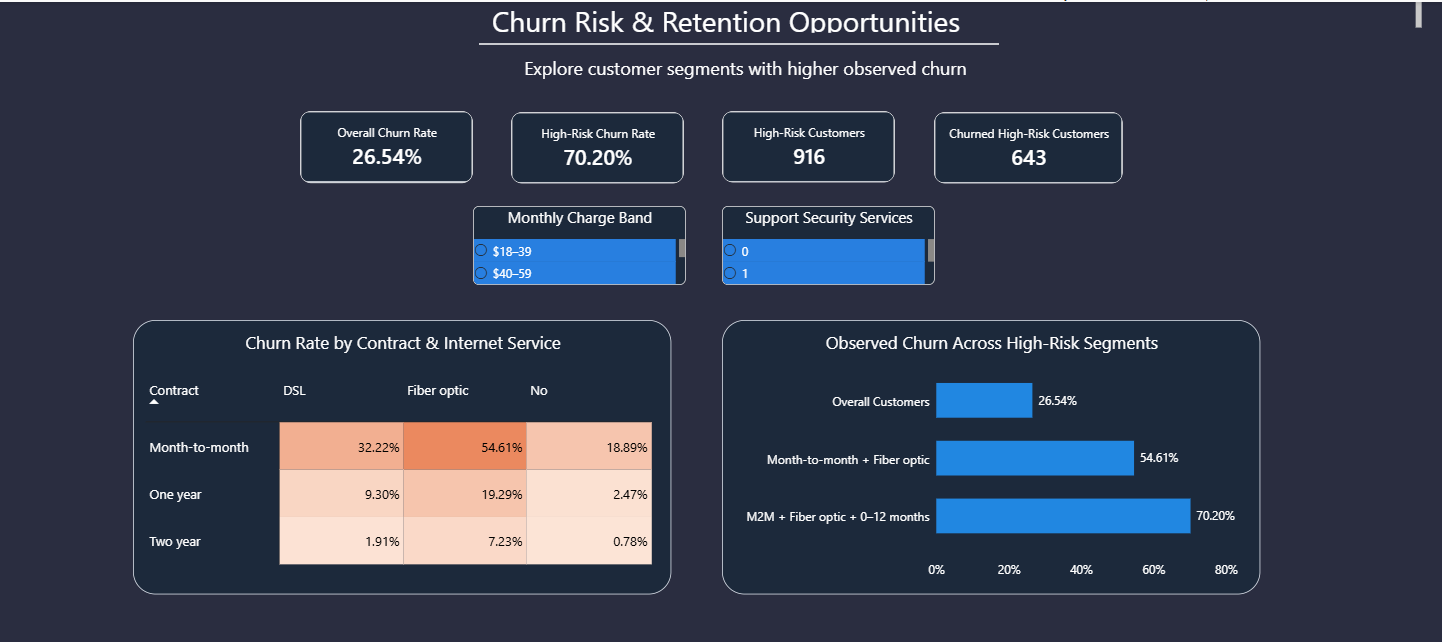

The dashboard page shown, as its layout file describes it:
{"tool":"powerbi","page":{"name":"Churn Risk & Retention Opportunities","canvas":[1920,1080],"ordinal":2},"visuals":[{"type":"cardVisual","fields":{"Data":["Measures_.Churn Rate"]},"box":[399,145,230.1,95.8],"z":0},{"type":"cardVisual","fields":{"Data":["Telco-Customer-Churn.High Risk Segment Churn Rate"]},"box":[679.7,146.3,230,95],"z":1000},{"type":"cardVisual","fields":{"Data":["Telco-Customer-Churn.High Risk Segment Customers"]},"box":[960.3,145,230,95],"z":2000},{"type":"cardVisual","fields":{"Data":["Telco-Customer-Churn.High Risk Churned Customers"]},"box":[1242.5,146.2,251.2,95],"z":3000},{"type":"pivotTable","title":"Churn Rate by Contract & Internet Service","fields":{"Columns":["Telco-Customer-Churn.InternetService"],"Rows":["Telco-Customer-Churn.Contract"],"Values":["Measures_.Overall Churn Rate"]},"box":[176.2,422.5,716.2,365],"z":4000},{"type":"clusteredBarChart","title":"Observed Churn Across High-Risk Segments","fields":{"Category":["Risk Segment Comparison.Segment"],"Y":["Risk Segment Comparison.Risk Segment Churn Rate"]},"box":[960,422.5,716,365],"z":5000},{"type":"listSlicer","fields":{"Values":["Telco-Customer-Churn.Support Security Services"]},"box":[960,271.2,283,105],"z":6000},{"type":"listSlicer","fields":{"Values":["Telco-Customer-Churn.Monthly Charge Band"]},"box":[628.8,271.2,283,105],"z":7000},{"type":"textbox","box":[47.9,0,1843.4,41.2],"z":8000},{"type":"shape","box":[637.1,41.2,691.6,29.3],"z":9000},{"type":"textbox","box":[597.2,70.5,788.7,31.9],"z":10000}]}

Visuals, with their boxes on the page's 1920x1080 design canvas (x1, y1, x2, y2). These are canvas units, not pixel positions in the 1442x642 screenshot, which may show the page scaled, cropped or inside an application window:
cardVisual - Measures_.Churn Rate: bbox=[399, 145, 629, 241]
cardVisual - Telco-Customer-Churn.High Risk Segment Churn Rate: bbox=[680, 146, 910, 241]
cardVisual - Telco-Customer-Churn.High Risk Segment Customers: bbox=[960, 145, 1190, 240]
cardVisual - Telco-Customer-Churn.High Risk Churned Customers: bbox=[1242, 146, 1494, 241]
"Churn Rate by Contract & Internet Service" pivotTable: bbox=[176, 422, 892, 788]
"Observed Churn Across High-Risk Segments" clusteredBarChart: bbox=[960, 422, 1676, 788]
listSlicer - Telco-Customer-Churn.Support Security Services: bbox=[960, 271, 1243, 376]
listSlicer - Telco-Customer-Churn.Monthly Charge Band: bbox=[629, 271, 912, 376]
textbox: bbox=[48, 0, 1891, 41]
shape: bbox=[637, 41, 1329, 70]
textbox: bbox=[597, 70, 1386, 102]
